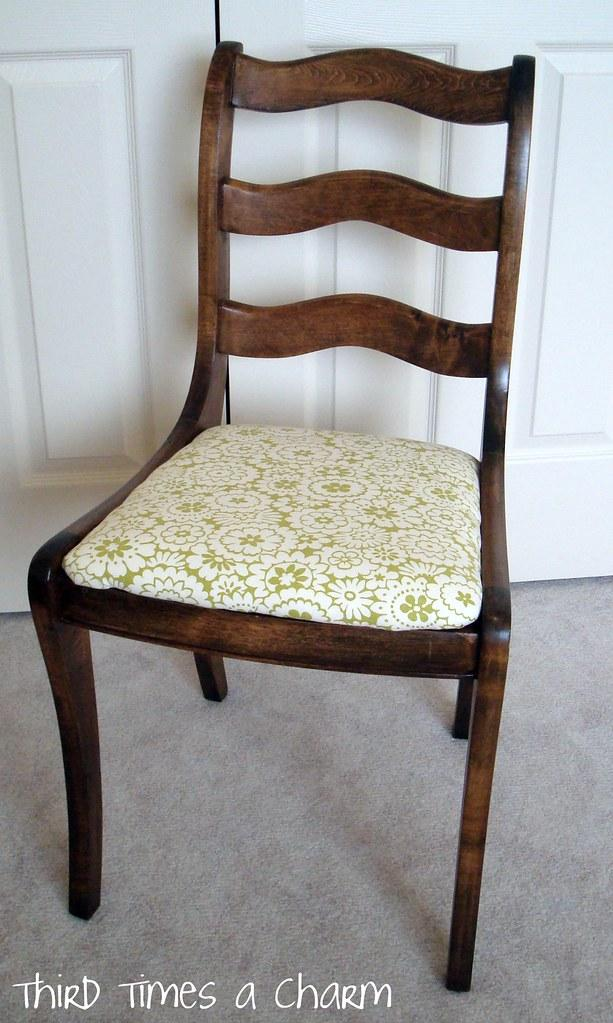chair: (27, 40, 535, 992)
